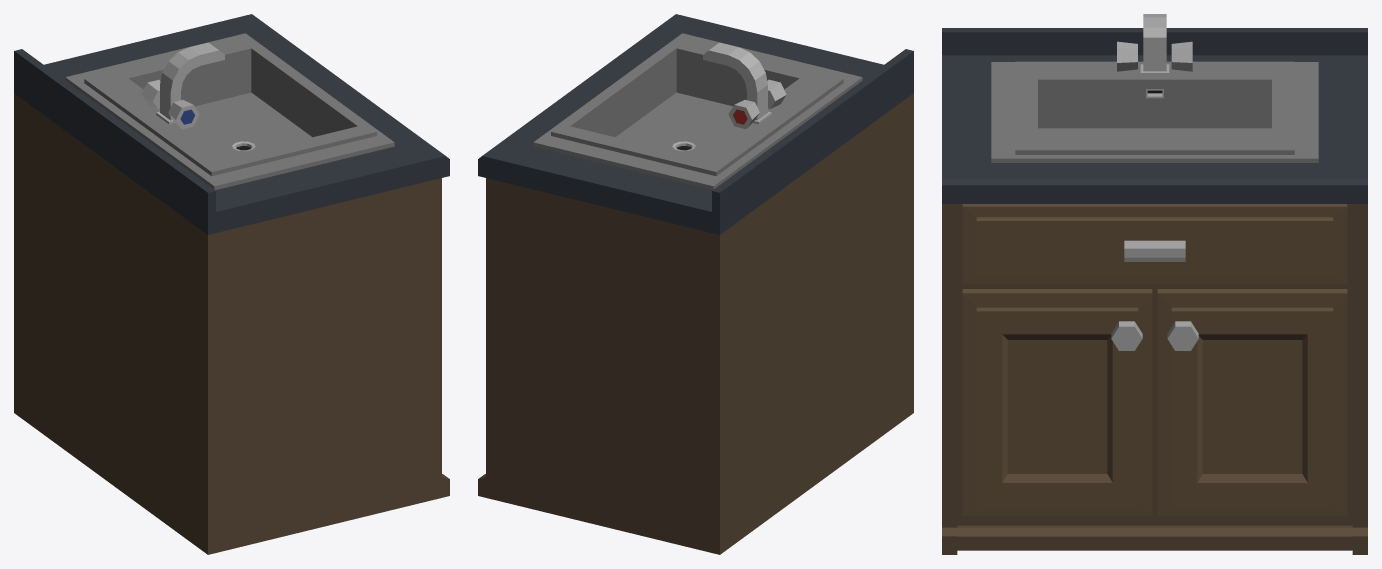
Rendered from SM_kitchenCabinetSink.glb.
3 renders of one model, left to right at view 1: azimuth 30°, elevation 25°; view 2: azimuth 150°, elevation 25°; view 3: azimuth 270°, elevation 25°, orthographic. The views are drawn at different scales.
Parts seen in each view (by area): view 1: SM_kitchenCabinetSink; view 2: SM_kitchenCabinetSink; view 3: SM_kitchenCabinetSink.
Part boxes in pixels (left/top/right/bottom): SM_kitchenCabinetSink: left=14, top=14, right=449, bottom=554; SM_kitchenCabinetSink: left=478, top=14, right=913, bottom=554; SM_kitchenCabinetSink: left=942, top=14, right=1367, bottom=554.
Bounding box in the file's own units: 0.7492 × 1.17 × 1.
1 material, 1 textured.
